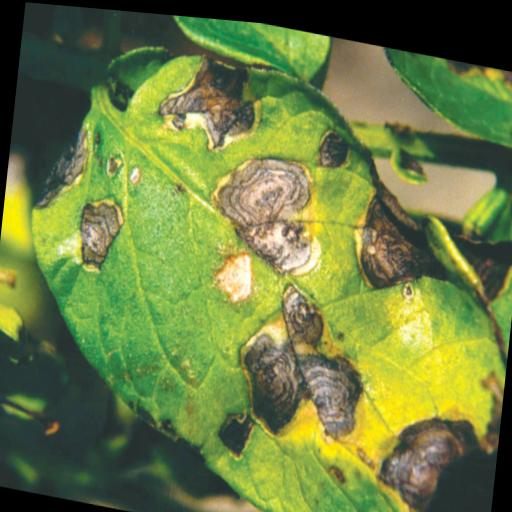Early Blight: (0, 9, 512, 512)
